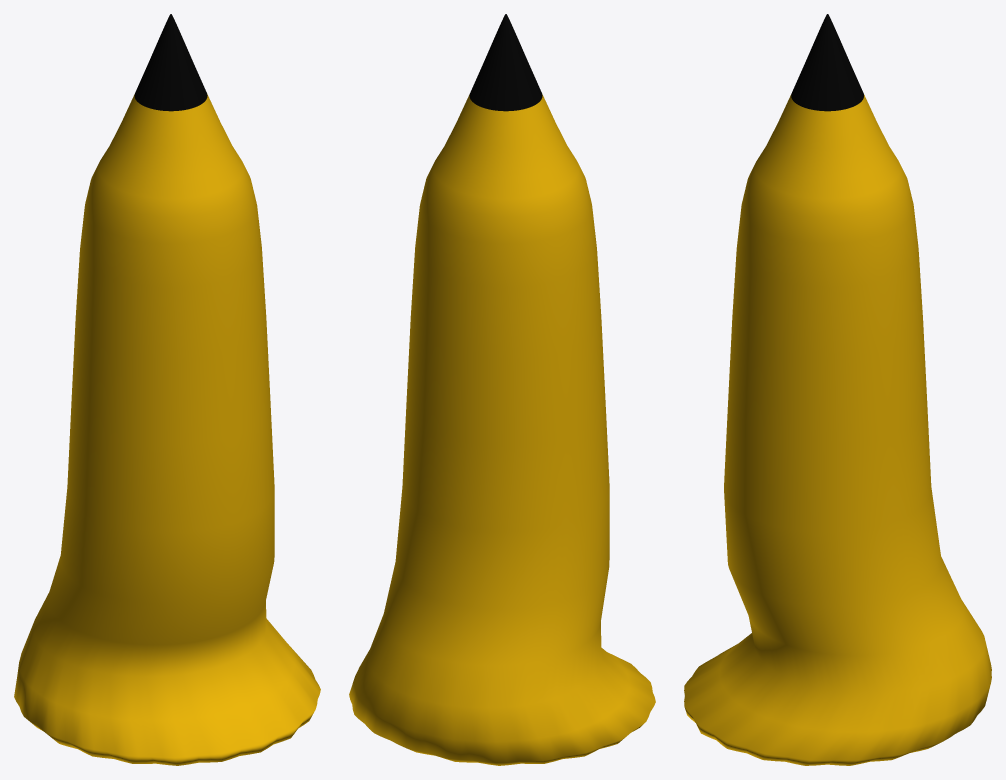
File: turuncu.fbx
3 views of the same model, side by side, from view 1: azimuth 30°, elevation 25°; view 2: azimuth 150°, elevation 25°; view 3: azimuth 270°, elevation 25° (orthographic).
Parts seen in each view (by area): view 1: pCylinder1; view 2: pCylinder1; view 3: pCylinder1.
Boxes of the visible parts, x1,y1,x2,y2 form: pCylinder1: (14, 14, 320, 765); pCylinder1: (349, 14, 655, 765); pCylinder1: (684, 14, 991, 765).
Bounding box in the file's own units: 3.78 × 9.53 × 3.82.
